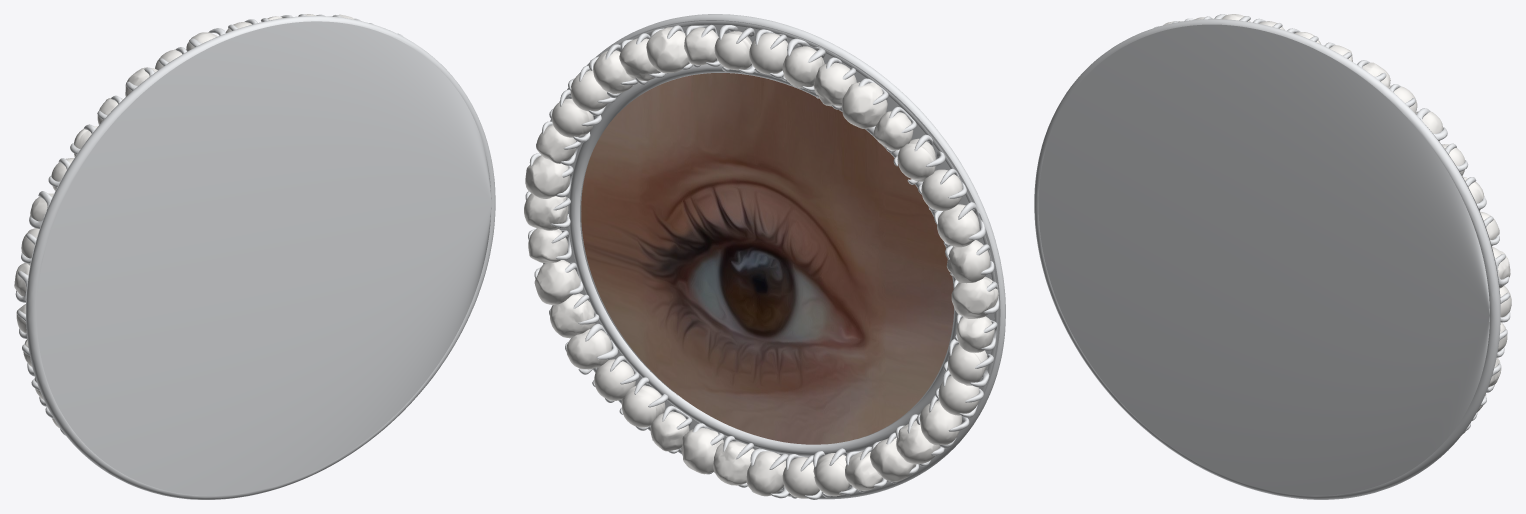
The model's file is cl-charm.glb.
The picture shows the model from 3 angles, left to right: view 1: azimuth 30°, elevation 25°; view 2: azimuth 150°, elevation 25°; view 3: azimuth 330°, elevation 25°; orthographic projection.
Parts seen in each view (by area): view 1: cl-charm-81, cl-charm-79; view 2: cl-charm-82, cl-charm-80, cl-charm-79, cl-charm-78, cl-charm-26, cl-charm-14, cl-charm-74, cl-charm-2, cl-charm-38, cl-charm-72, cl-charm-62, cl-charm-36 (+31 smaller); view 3: cl-charm-81, cl-charm-79.
Part boxes in pixels (x1,y1,x2,y2): cl-charm-81: (37, 21, 491, 495); cl-charm-79: (26, 16, 495, 499); cl-charm-82: (581, 73, 953, 444); cl-charm-80: (569, 61, 957, 456); cl-charm-79: (543, 14, 1005, 499); cl-charm-78: (543, 20, 1000, 493); cl-charm-26: (842, 82, 887, 128); cl-charm-14: (646, 27, 689, 73); cl-charm-74: (534, 260, 580, 304); cl-charm-2: (525, 155, 569, 198); cl-charm-38: (951, 276, 998, 318); cl-charm-72: (549, 293, 595, 338); cl-charm-62: (681, 428, 723, 474); cl-charm-36: (946, 240, 990, 283); cl-charm-81: (1038, 24, 1489, 495); cl-charm-79: (1034, 19, 1500, 499).
Size of the model in its own units: 1 by 0.9568 by 0.0935.
Materials: 4 (1 with a texture image).
